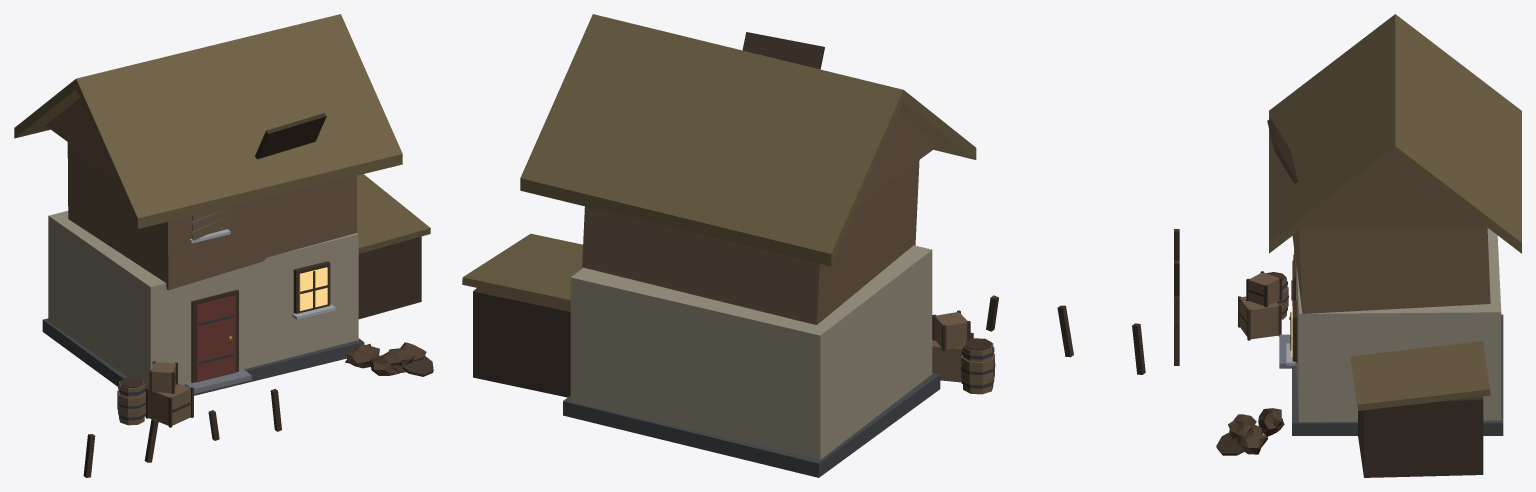
The model's file is bill_ferny_house.glb.
3 renders of one model, left to right at view 1: azimuth 30°, elevation 25°; view 2: azimuth 150°, elevation 25°; view 3: azimuth 270°, elevation 25°, orthographic. The views are drawn at different scales.
Visible parts, largest first — view 1: bill_ferny_house; view 2: bill_ferny_house; view 3: bill_ferny_house.
Boxes of the visible parts, x1,y1,x2,y2 form: bill_ferny_house: (14, 14, 433, 477); bill_ferny_house: (462, 14, 1145, 477); bill_ferny_house: (1174, 14, 1521, 477).
Size of what is drawn, in the model's own units: 11.15 by 7.35 by 7.56.
